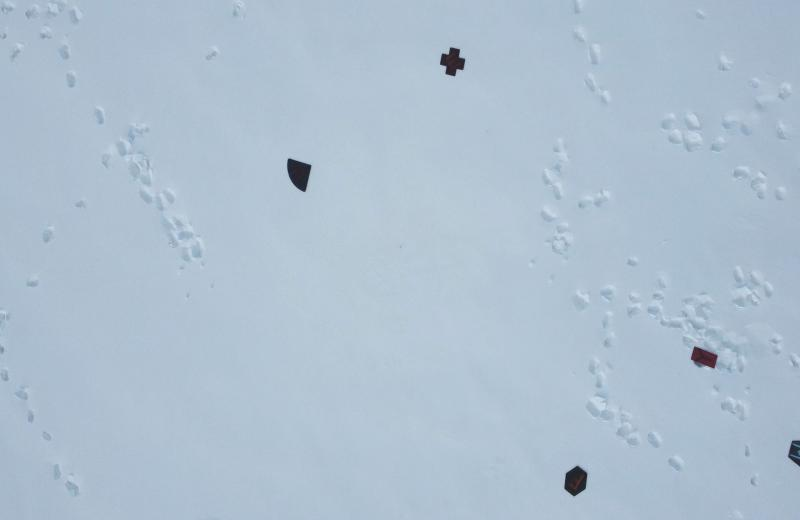Cross: (438, 46, 465, 82)
Hexagon: (559, 463, 590, 498)
Pentagon: (783, 423, 800, 470)
Quarter Circle: (281, 152, 313, 200)
Rectangle: (1, 1, 800, 520), (688, 340, 718, 375)
